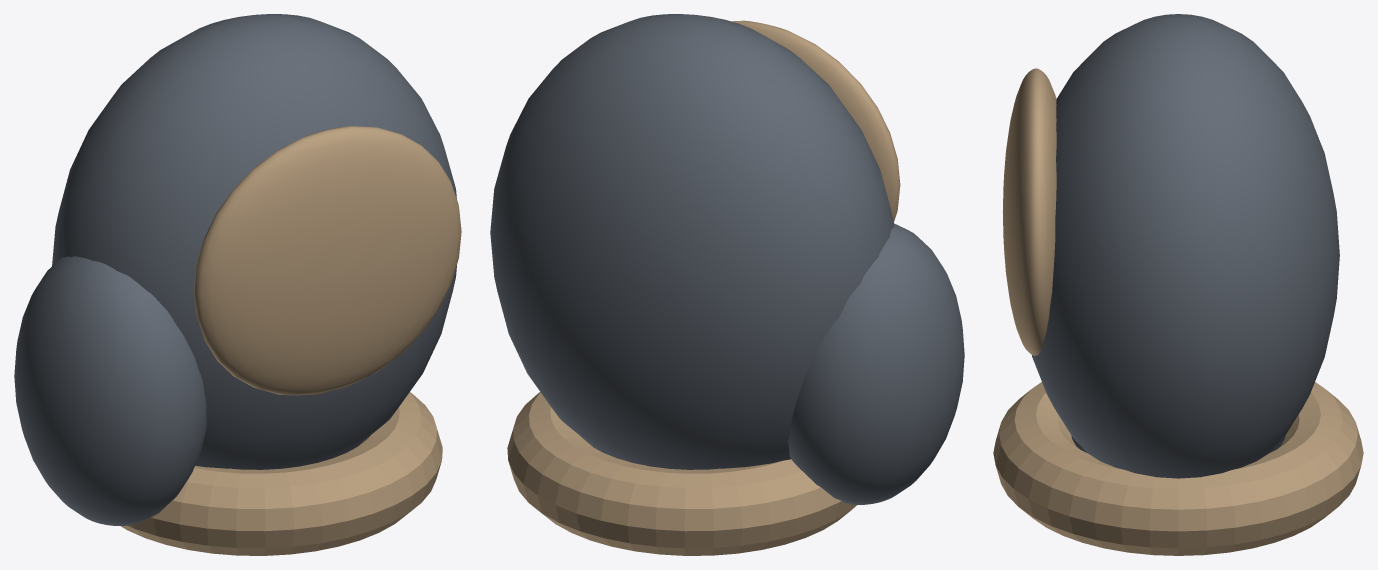
The model's file is hard_glove.glb.
The picture shows the model from 3 angles, left to right: view 1: azimuth 30°, elevation 25°; view 2: azimuth 150°, elevation 25°; view 3: azimuth 270°, elevation 25°; orthographic projection.
Parts seen in each view (by area): view 1: Rounded hand pocket, Back-of-hand padding, Small thumb pocket, Open wrist cuff; view 2: Rounded hand pocket, Small thumb pocket, Open wrist cuff, Back-of-hand padding; view 3: Rounded hand pocket, Open wrist cuff, Back-of-hand padding.
Part boxes in pixels (x1,y1,x2,y2): Rounded hand pocket: (52,14,456,469); Back-of-hand padding: (194,126,461,395); Small thumb pocket: (14,256,206,525); Open wrist cuff: (121,392,442,555); Rounded hand pocket: (490,14,894,469); Small thumb pocket: (788,223,964,504); Open wrist cuff: (507,392,856,555); Back-of-hand padding: (731,20,900,221); Rounded hand pocket: (1032,14,1339,478); Open wrist cuff: (993,382,1363,555); Back-of-hand padding: (1002,68,1056,355).
Bounding box in the file's own units: 0.102 × 0.107 × 0.078.
